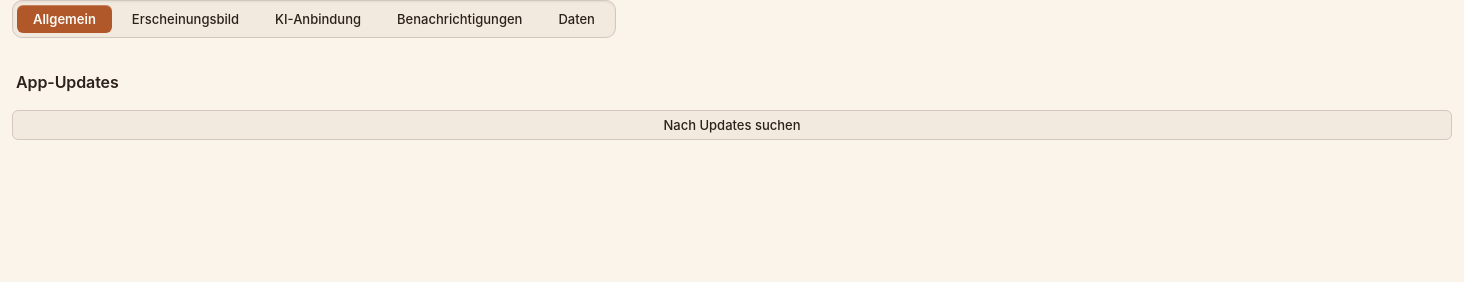
Test: SettingsView › wechselt zum Reiter "Erscheinungsbild" und zeigt dessen Inhalt
What coordinates should you click on to do the following:
click the tab "Erscheinungsbild"
I would click on:
 (185, 19)
Its box is top-left (116, 5), bottom-right (255, 33).
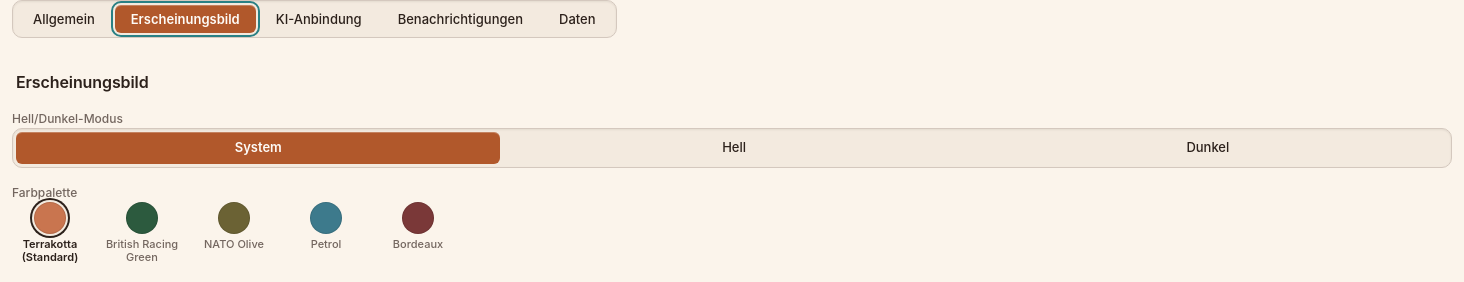
expect the element "Erscheinungsbild" is shown: met
expect the heading "App-Updates" is gone: met
